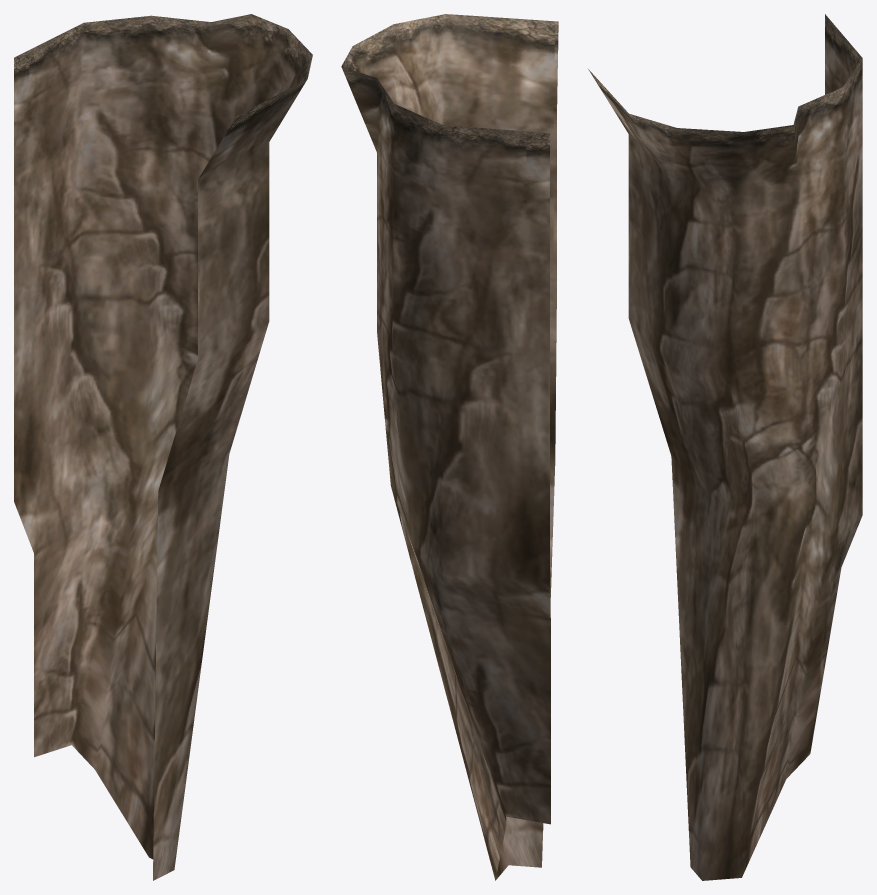
File: OVERHILL_A_01_LINE29.fbx
The picture shows the model from 3 angles, left to right: view 1: azimuth 30°, elevation 25°; view 2: azimuth 150°, elevation 25°; view 3: azimuth 270°, elevation 25°; orthographic projection. The views are drawn at different scales.
Parts seen in each view (by area): view 1: OVERHILL_A_01_LINE29; view 2: OVERHILL_A_01_LINE29; view 3: OVERHILL_A_01_LINE29.
Part boxes in pixels (x1,y1,x2,y2): OVERHILL_A_01_LINE29: (14,14,312,880); OVERHILL_A_01_LINE29: (341,14,558,880); OVERHILL_A_01_LINE29: (588,14,862,880).
Bounding box in the file's own units: 28839 × 93099 × 28439.
Materials: 2 (2 with a texture image).
